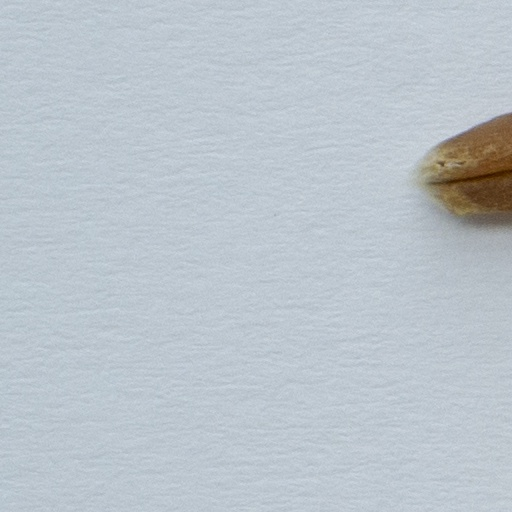Wheat-grain: (420, 113, 511, 216)
